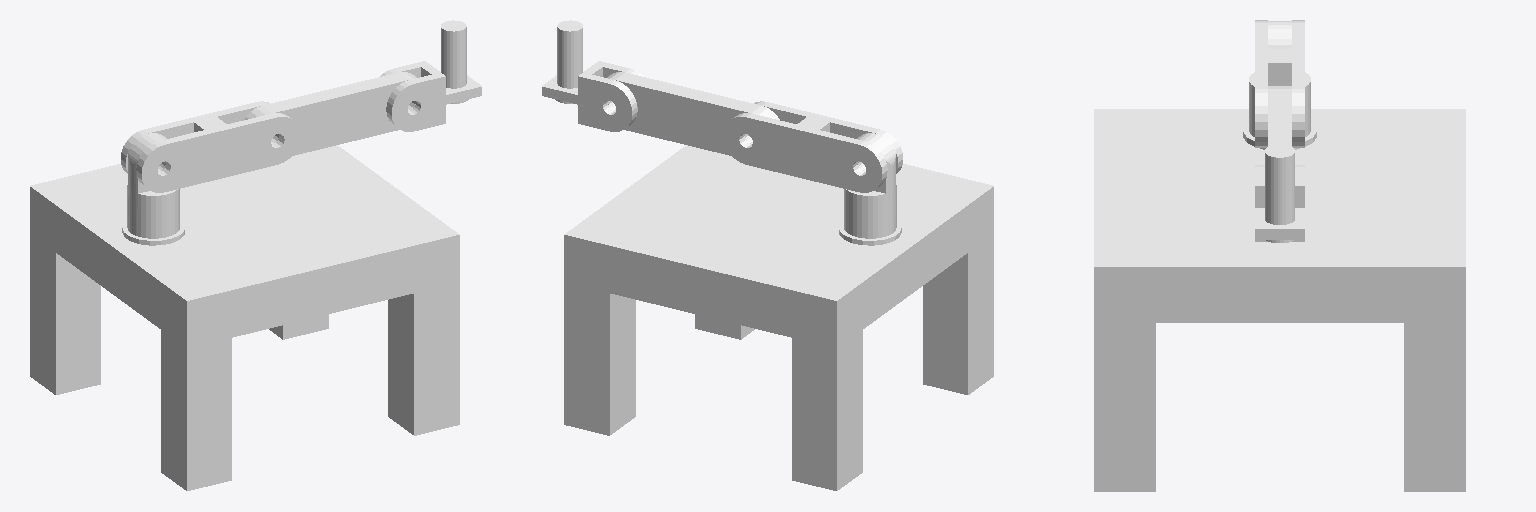
The robot description file, URDF, robot "装配体1.SLDASM":
<?xml version="1.0" encoding="utf-8"?>
<!-- This URDF was automatically created by SolidWorks to URDF Exporter! Originally created by Stephen Brawner (brawner@gmail.com) 
     Commit Version: 1.6.0-4-g7f85cfe  Build Version: 1.6.7995.38578
     For more information, please see http://wiki.ros.org/sw_urdf_exporter -->
<robot
  name="装配体1.SLDASM">
  <link
    name="base_link">
    <inertial>
      <origin
        xyz="0.19985 -3.9974E-06 -0.099922"
        rpy="0 0 0" />
      <mass
        value="48.035" />
      <inertia
        ixx="2.3204"
        ixy="3.0974E-16"
        ixz="0.00072519"
        iyy="2.3218"
        iyz="-5.321E-17"
        izz="3.6815" />
    </inertial>
    <visual>
      <origin
        xyz="0 0 0"
        rpy="0 0 0" />
      <geometry>
        <mesh
          filename="package://装配体1.SLDASM/meshes/base_link.STL" />
      </geometry>
      <material
        name="">
        <color
          rgba="1 1 1 1" />
      </material>
    </visual>
    <collision>
      <origin
        xyz="0 0 0"
        rpy="0 0 0" />
      <geometry>
        <mesh
          filename="package://装配体1.SLDASM/meshes/base_link.STL" />
      </geometry>
    </collision>
  </link>
  <link
    name="link_1">
    <inertial>
      <origin
        xyz="-3.8185E-06 -3.9974E-06 0.077705"
        rpy="0 0 0" />
      <mass
        value="1.1076" />
      <inertia
        ixx="0.0035111"
        ixy="-1.4806E-18"
        ixz="7.6289E-18"
        iyy="0.0037165"
        iyz="1.4897E-18"
        izz="0.0012716" />
    </inertial>
    <visual>
      <origin
        xyz="0 0 0"
        rpy="0 0 0" />
      <geometry>
        <mesh
          filename="package://装配体1.SLDASM/meshes/link_1.STL" />
      </geometry>
      <material
        name="">
        <color
          rgba="1 1 1 1" />
      </material>
    </visual>
    <collision>
      <origin
        xyz="0 0 0"
        rpy="0 0 0" />
      <geometry>
        <mesh
          filename="package://装配体1.SLDASM/meshes/link_1.STL" />
      </geometry>
    </collision>
  </link>
  <joint
    name="joint_1"
    type="revolute">
    <origin
      xyz="0 0 0"
      rpy="0 0 0" />
    <parent
      link="base_link" />
    <child
      link="link_1" />
    <axis
      xyz="0 0 1" />
    <limit
      lower="-1.5708"
      upper="1.5708"
      effort="20"
      velocity="2" />
  </joint>
  <link
    name="link_2">
    <inertial>
      <origin
        xyz="0.125 2.1204E-06 3.9974E-06"
        rpy="0 0 0" />
      <mass
        value="1.4576" />
      <inertia
        ixx="0.0023936"
        ixy="-2.5661E-18"
        ixz="6.9141E-17"
        iyy="0.012335"
        iyz="-1.5667E-19"
        izz="0.012328" />
    </inertial>
    <visual>
      <origin
        xyz="0 0 0"
        rpy="0 0 0" />
      <geometry>
        <mesh
          filename="package://装配体1.SLDASM/meshes/link_2.STL" />
      </geometry>
      <material
        name="">
        <color
          rgba="1 1 1 1" />
      </material>
    </visual>
    <collision>
      <origin
        xyz="0 0 0"
        rpy="0 0 0" />
      <geometry>
        <mesh
          filename="package://装配体1.SLDASM/meshes/link_2.STL" />
      </geometry>
    </collision>
  </link>
  <joint
    name="joint_2"
    type="revolute">
    <origin
      xyz="0 0 0.15"
      rpy="1.5708 0 0" />
    <parent
      link="link_1" />
    <child
      link="link_2" />
    <axis
      xyz="0 0 -1" />
    <limit
      lower="0"
      upper="1.5708"
      effort="15"
      velocity="2" />
  </joint>
  <link
    name="link_3">
    <inertial>
      <origin
        xyz="0.15 2.1204E-06 3.9974E-06"
        rpy="0 0 0" />
      <mass
        value="1.4576" />
      <inertia
        ixx="0.0013875"
        ixy="8.085E-20"
        ixz="1.2219E-16"
        iyy="0.017184"
        iyz="3.8721E-18"
        izz="0.018183" />
    </inertial>
    <visual>
      <origin
        xyz="0 0 0"
        rpy="0 0 0" />
      <geometry>
        <mesh
          filename="package://装配体1.SLDASM/meshes/link_3.STL" />
      </geometry>
      <material
        name="">
        <color
          rgba="1 1 1 1" />
      </material>
    </visual>
    <collision>
      <origin
        xyz="0 0 0"
        rpy="0 0 0" />
      <geometry>
        <mesh
          filename="package://装配体1.SLDASM/meshes/link_3.STL" />
      </geometry>
    </collision>
  </link>
  <joint
    name="joint_3"
    type="revolute">
    <origin
      xyz="0.25 0 0"
      rpy="0 0 0" />
    <parent
      link="link_2" />
    <child
      link="link_3" />
    <axis
      xyz="0 0 -1" />
    <limit
      lower="-1.5708"
      upper="1.5708"
      effort="15"
      velocity="2" />
  </joint>
  <link
    name="link_4">
    <inertial>
      <origin
        xyz="0.036404 2.1204E-06 3.9974E-06"
        rpy="0 0 0" />
      <mass
        value="0.57754" />
      <inertia
        ixx="0.00085389"
        ixy="-3.725E-20"
        ixz="-1.0232E-17"
        iyy="0.0016691"
        iyz="-1.2712E-20"
        izz="0.0016143" />
    </inertial>
    <visual>
      <origin
        xyz="0 0 0"
        rpy="0 0 0" />
      <geometry>
        <mesh
          filename="package://装配体1.SLDASM/meshes/link_4.STL" />
      </geometry>
      <material
        name="">
        <color
          rgba="1 1 1 1" />
      </material>
    </visual>
    <collision>
      <origin
        xyz="0 0 0"
        rpy="0 0 0" />
      <geometry>
        <mesh
          filename="package://装配体1.SLDASM/meshes/link_4.STL" />
      </geometry>
    </collision>
  </link>
  <joint
    name="joint_4"
    type="revolute">
    <origin
      xyz="0.3 0 0"
      rpy="0 0 0" />
    <parent
      link="link_3" />
    <child
      link="link_4" />
    <axis
      xyz="0 0 -1" />
    <limit
      lower="-1.5708"
      upper="1.5708"
      effort="15"
      velocity="2" />
  </joint>
  <link
    name="link_5">
    <inertial>
      <origin
        xyz="-3.8185E-06 3.9974E-06 -0.053007"
        rpy="0 0 0" />
      <mass
        value="0.30316" />
      <inertia
        ixx="0.00064274"
        ixy="0"
        ixz="2.9791E-19"
        iyy="0.00064274"
        iyz="1.0387E-33"
        izz="9.8626E-05" />
    </inertial>
    <visual>
      <origin
        xyz="0 0 0"
        rpy="0 0 0" />
      <geometry>
        <mesh
          filename="package://装配体1.SLDASM/meshes/link_5.STL" />
      </geometry>
      <material
        name="">
        <color
          rgba="1 1 1 1" />
      </material>
    </visual>
    <collision>
      <origin
        xyz="0 0 0"
        rpy="0 0 0" />
      <geometry>
        <mesh
          filename="package://装配体1.SLDASM/meshes/link_5.STL" />
      </geometry>
    </collision>
  </link>
  <joint
    name="joint_5"
    type="prismatic">
    <origin
      xyz="0.11 0 0"
      rpy="1.5708 0 0" />
    <parent
      link="link_4" />
    <child
      link="link_5" />
    <axis
      xyz="0 0 1" />
    <limit
      lower="0"
      upper="0.12"
      effort="10"
      velocity="0.2" />
  </joint>
</robot>

--- What the picture shows (computed from the rendered views, not written in the file) ---
The picture shows the robot from 3 angles, left to right: view 1: azimuth 30°, elevation 25°; view 2: azimuth 150°, elevation 25°; view 3: azimuth 270°, elevation 25°; orthographic projection.
Robot: 装配体1.SLDASM — 6 links, 5 joints (4 revolute, 1 prismatic); root link base_link; default pose: every joint at zero.
Visible links, largest first — view 1: base_link, link_2, link_3, link_4, link_1, link_5; view 2: base_link, link_2, link_3, link_4, link_1, link_5; view 3: base_link, link_2, link_5, link_4, link_3, link_1.
Link boxes in pixels (x1,y1,x2,y2): base_link: (30,145,459,490); link_2: (121,101,300,192); link_3: (244,72,416,155); link_4: (380,61,481,131); link_1: (127,133,179,238); link_5: (441,20,468,103); base_link: (564,145,993,490); link_2: (723,101,902,192); link_3: (607,72,779,155); link_4: (542,61,643,131); link_1: (844,133,896,238); link_5: (555,20,582,103); base_link: (1094,109,1465,491); link_2: (1255,20,1304,147); link_5: (1265,145,1294,242); link_4: (1255,165,1304,241); link_3: (1268,86,1291,146); link_1: (1249,21,1310,136).
Size in the robot's own frame: 0.8 by 0.6 by 0.68 metres.
6 mesh visuals loaded from 6 distinct referenced files (6 binary STL).
